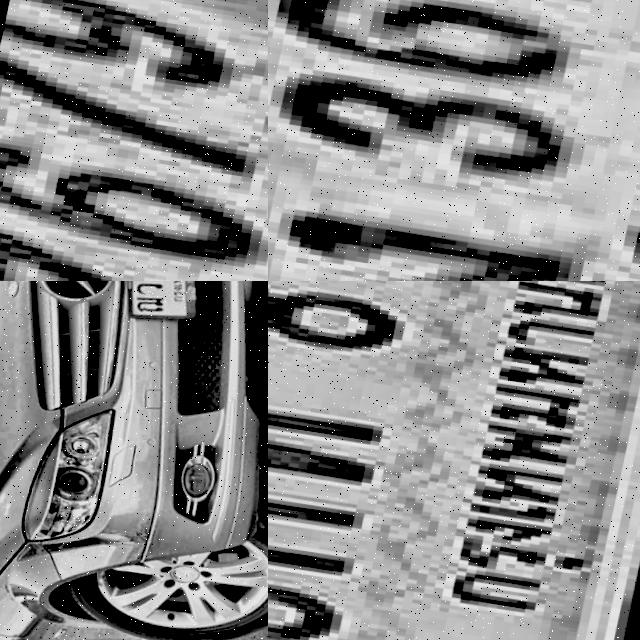license-plate: (268, 281, 640, 640), (268, 0, 640, 281), (0, 0, 268, 281), (104, 281, 220, 331)
